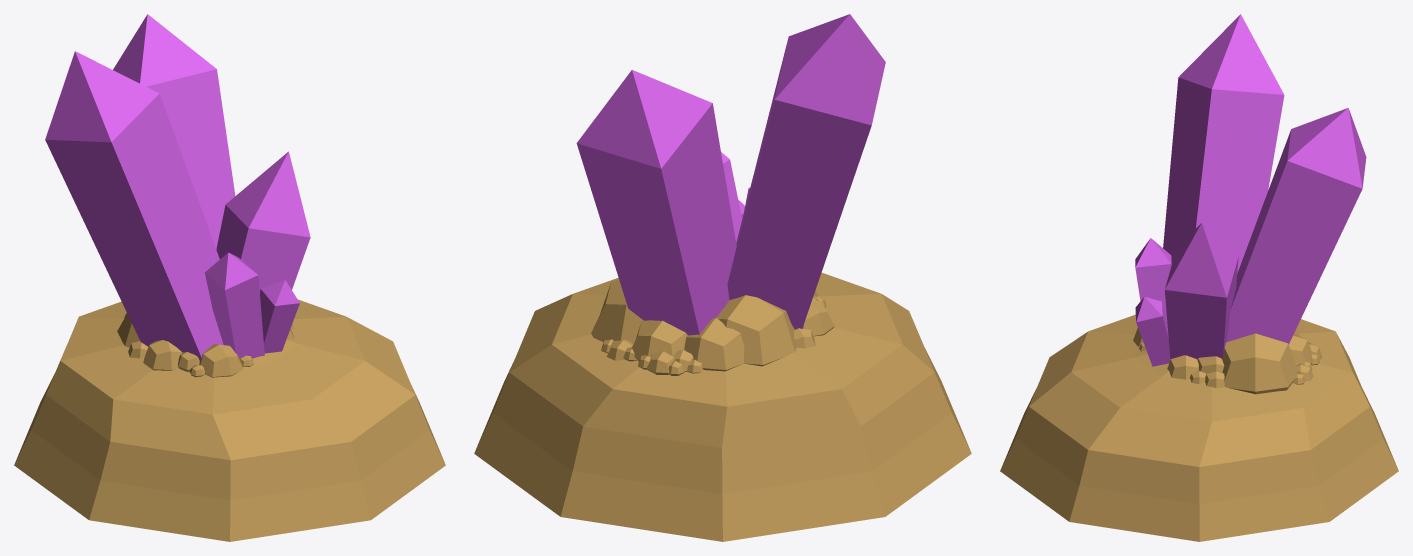
The model's file is crystal_formation.glb.
3 views of the same model, side by side, from view 1: azimuth 30°, elevation 25°; view 2: azimuth 150°, elevation 25°; view 3: azimuth 270°, elevation 25° (orthographic). The views are drawn at different scales.
Parts seen in each view (by area): view 1: Object_3, Object_2; view 2: Object_3, Object_2; view 3: Object_3, Object_2.
Part boxes in pixels (box(x1,y1,x2,y2)): Object_3: box(14, 299, 445, 541); Object_2: box(45, 14, 310, 360); Object_3: box(474, 272, 971, 541); Object_2: box(576, 14, 885, 335); Object_3: box(1000, 314, 1398, 541); Object_2: box(1135, 14, 1366, 366).
Size of the model in its own units: 2.05 by 2.2 by 2.08.
